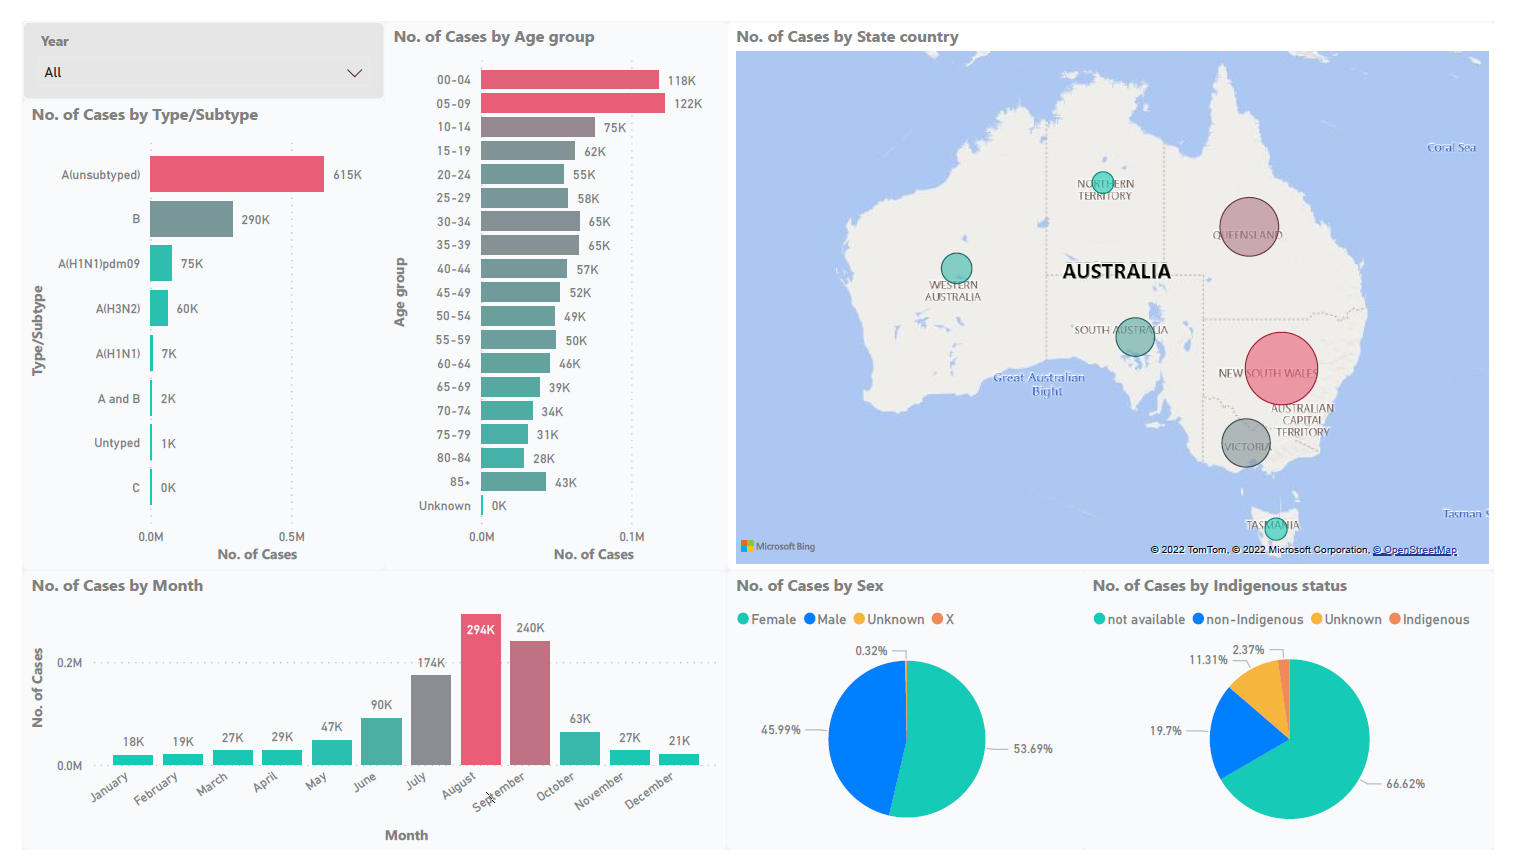

What the dashboard file says about the page in this screenshot:
{"tool":"powerbi","page":{"name":"Influenza","canvas":[1280,720],"ordinal":0},"visuals":[{"type":"pieChart","fields":{"Category":["influenza_2019_2008.Sex"],"Y":["influenza_2019_2008.No. of Cases"]},"box":[612.7,477.6,309.9,242.4],"z":0},{"type":"barChart","fields":{"Category":["influenza_2019_2008.Age  group"],"Y":["influenza_2019_2008.No. of Cases"]},"box":[314.5,0,297.5,477.3],"z":1000},{"type":"columnChart","fields":{"Category":["Calendar.Month"],"Y":["influenza_2019_2008.No. of Cases"]},"box":[0,477.3,612.1,242.9],"z":2000},{"type":"map","fields":{"Category":["influenza_2019_2008.State country"],"Size":["influenza_2019_2008.No. of Cases"]},"box":[612.1,0,667.9,477.3],"z":3000},{"type":"pieChart","fields":{"Category":["influenza_2019_2008.Indigenous status"],"Y":["influenza_2019_2008.No. of Cases"]},"box":[923,477.3,357,242.9],"z":4000},{"type":"clusteredBarChart","fields":{"Category":["influenza_2019_2008.Type/Subtype"],"Y":["influenza_2019_2008.No. of Cases"]},"box":[0,68,314.5,409.3],"z":5000},{"type":"slicer","fields":{"Values":["Calendar.Year"]},"box":[0,0,314.5,68],"z":6000}]}

Visuals, with their boxes in screenshot pixels (x1, y1, x2, y2), scaled from the page's 1280x720 canvas onto the 1513x867 screenshot:
pieChart - influenza_2019_2008.Sex x influenza_2019_2008.No. of Cases: <box>724,575,1091,866</box>
barChart - influenza_2019_2008.Age  group x influenza_2019_2008.No. of Cases: <box>372,0,723,575</box>
columnChart - Calendar.Month x influenza_2019_2008.No. of Cases: <box>0,575,724,866</box>
map - influenza_2019_2008.State country x influenza_2019_2008.No. of Cases: <box>724,0,1512,575</box>
pieChart - influenza_2019_2008.Indigenous status x influenza_2019_2008.No. of Cases: <box>1091,575,1512,866</box>
clusteredBarChart - influenza_2019_2008.Type/Subtype x influenza_2019_2008.No. of Cases: <box>0,82,372,575</box>
slicer - Calendar.Year: <box>0,0,372,82</box>
